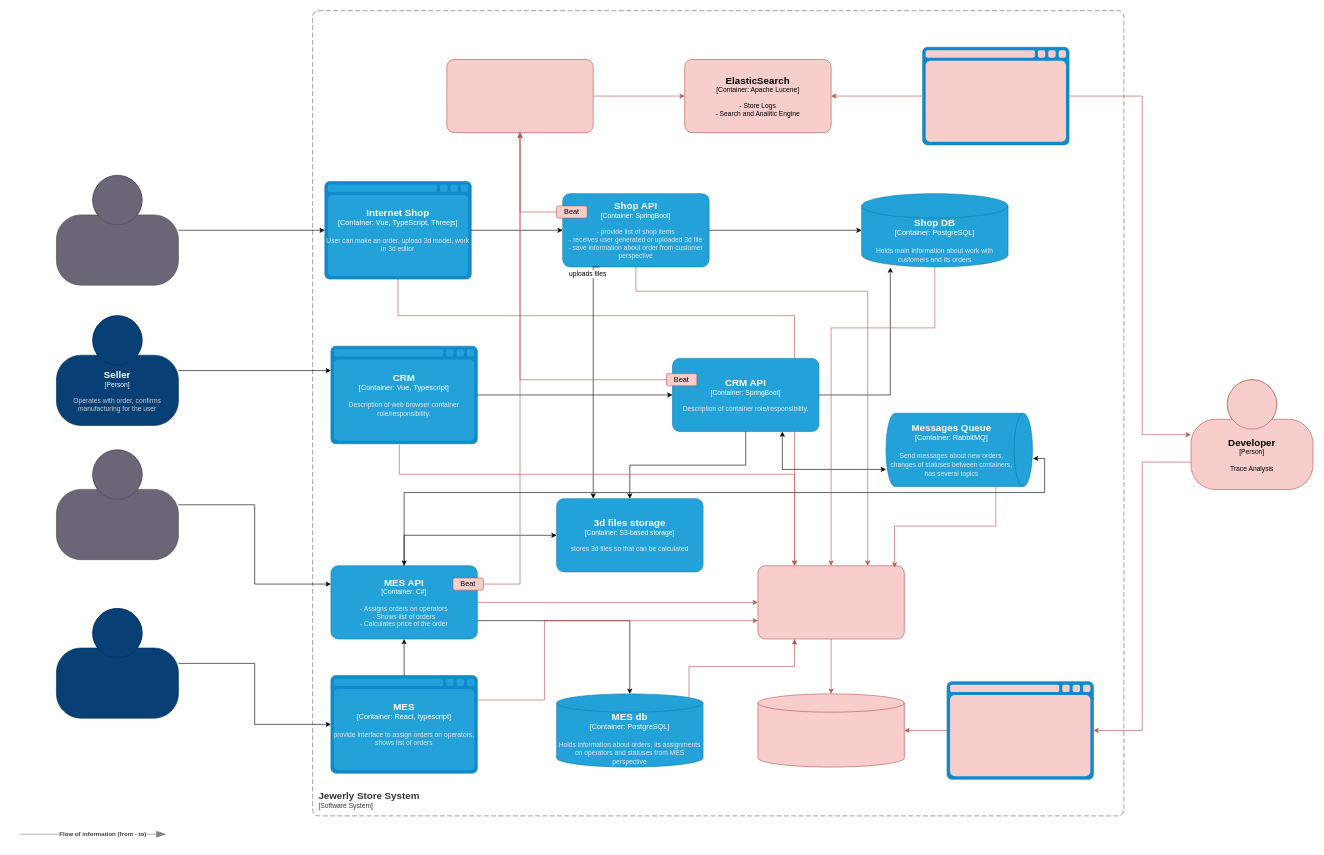
The diagram is 1324 pixels wide and 855 high, and some of its shapes have lost their labels. Here are the shapes that lost their labels. From the top down, the centre of each, then its label:
At (519,96): "Logstash [Container: JRuby] Collect and Send Logs".
At (995,96): "Kibana [Container: JavaScript] UI for Search and Analysis Logs".
At (117,230): "Customer [Person] Description of external person.".
At (117,504): "API user [Person] Description of external person.".
At (830,602): "Jaeger [Container: GoLang] Collection/Normalization Trace Data".
At (117,663): "Operator [Person] Takes order in work, manufactures jewerly".
At (830,730): "Jaeger DB [Container: Cassandra] Trace Storage".
At (1019,730): "Jaeger UI [Container: React, TypeScript] Data Mining, Visualisation".
